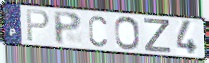4: (175, 18, 199, 58)
C: (87, 14, 109, 48)
O: (113, 15, 141, 51)
P: (52, 10, 84, 46), (25, 8, 51, 43)
Z: (143, 17, 172, 55)
